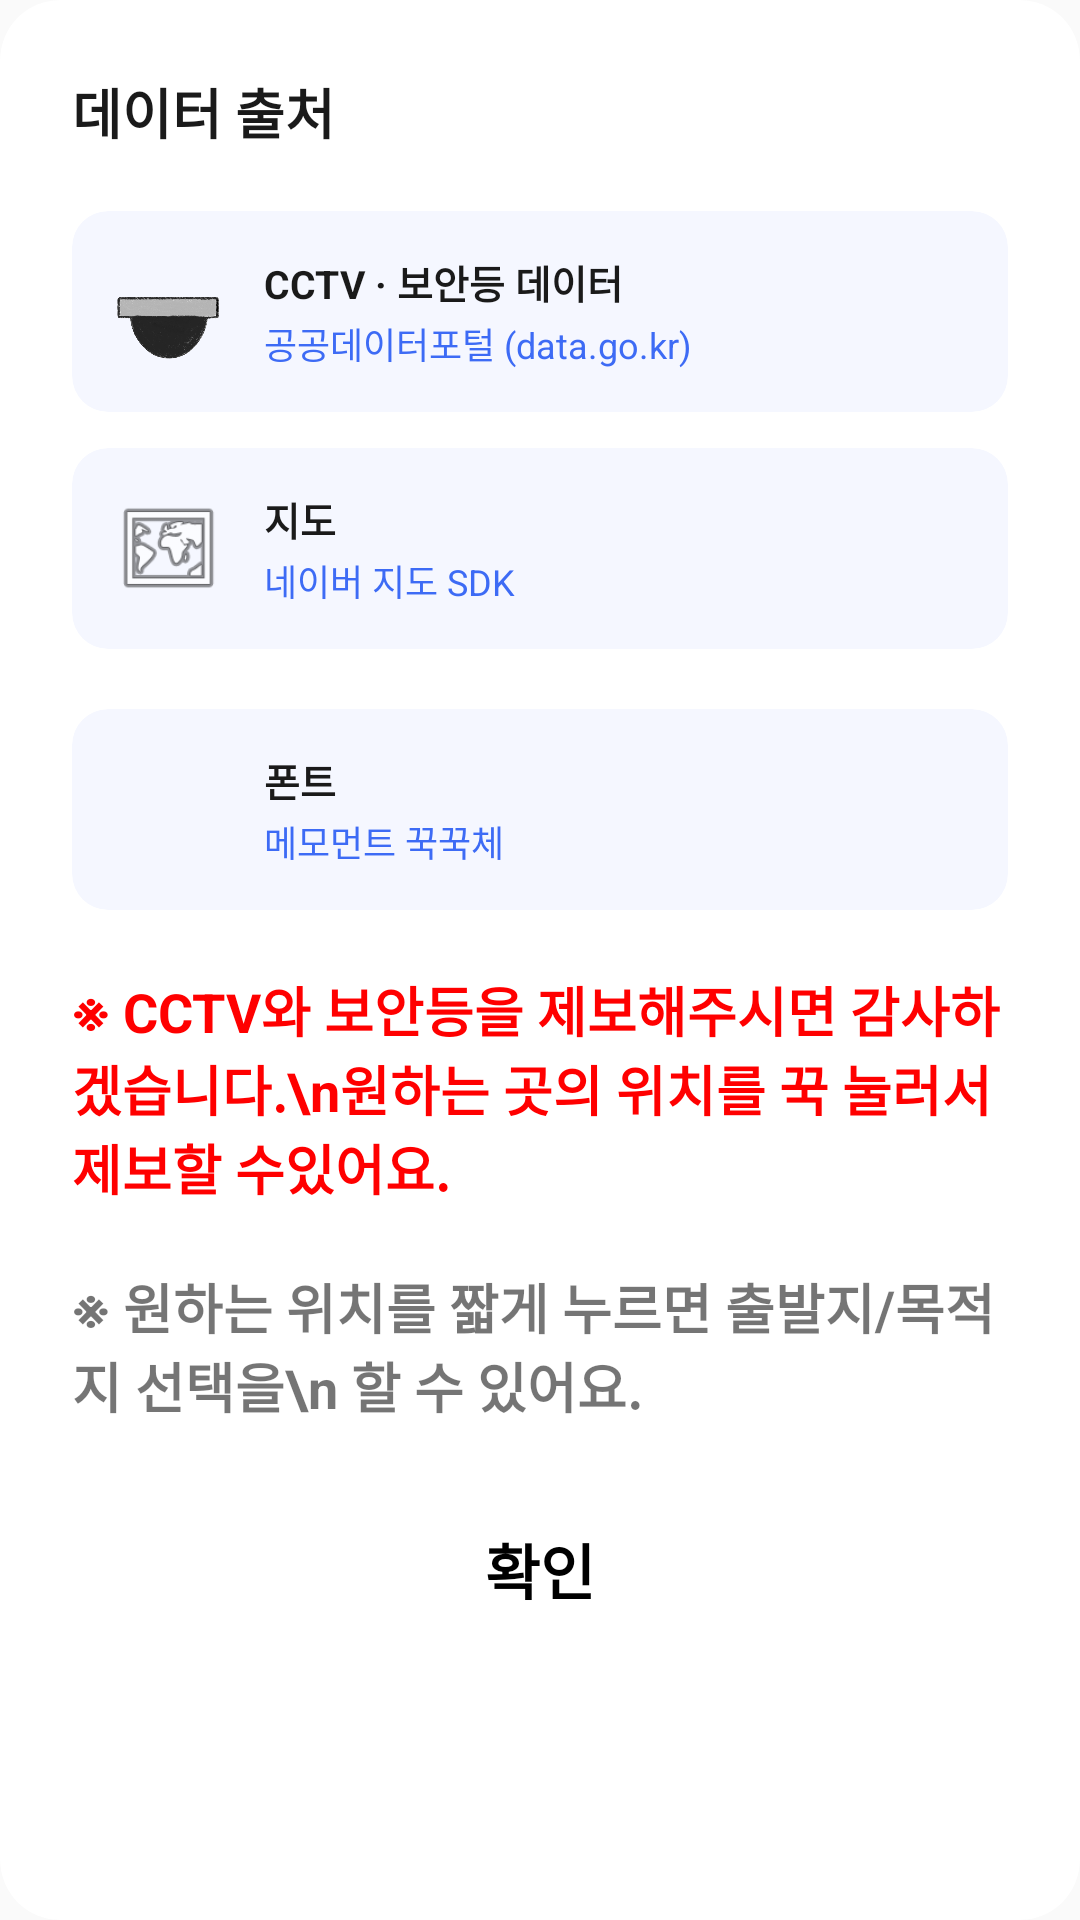

Icons on this 1080 × 1920 Android screen, each with its box as [x1, y1, x2, y2]:
mapmode: [123, 508, 214, 588]
